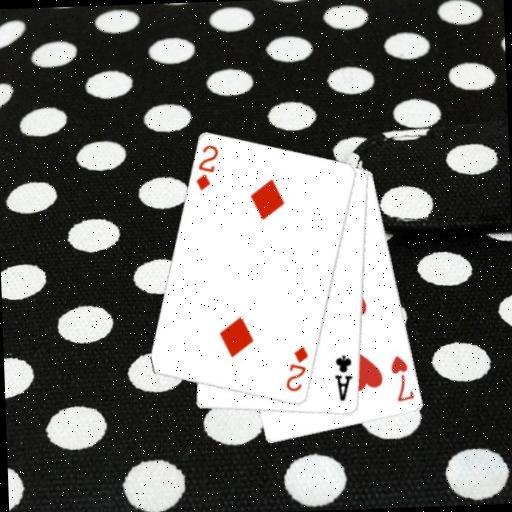2D: (282, 343, 311, 394), (192, 141, 221, 192)
7H: (387, 352, 416, 404)
AC: (331, 352, 356, 403)
